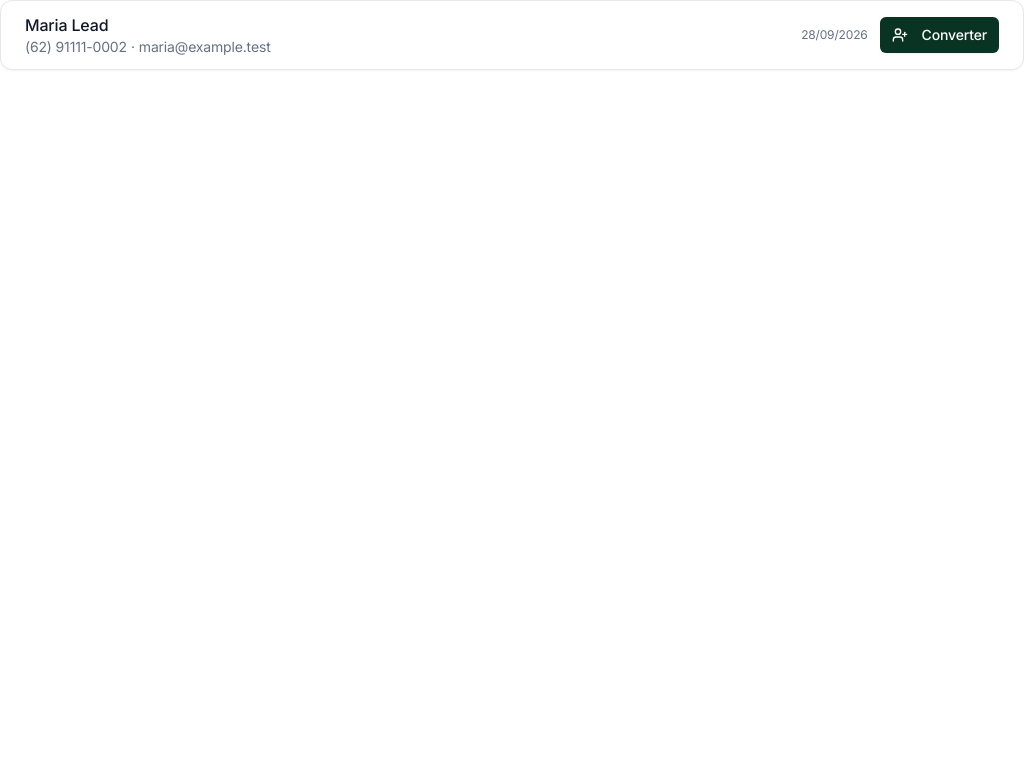
it: telefone que já é de um cliente: só vincular, sem converter nem "criar mesmo assim"
Later steps or results of the test are not shown.
Click the button "Converter" at (939, 35), box top-left (880, 17), bottom-right (999, 53)
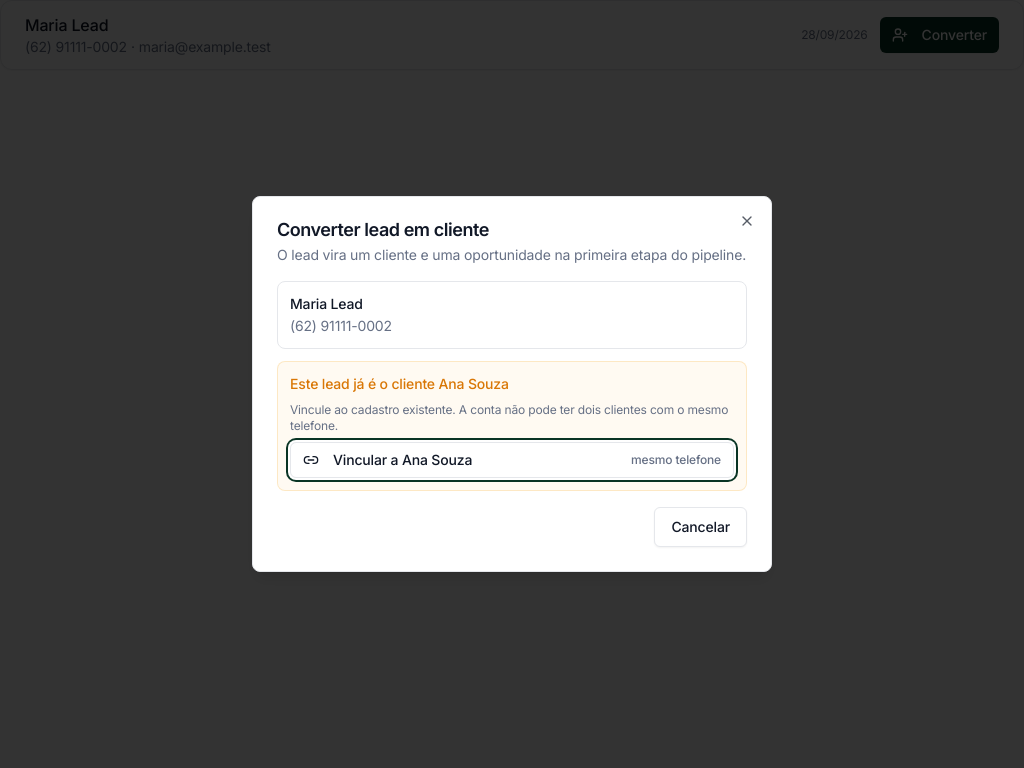
Expected: the text "Este lead já é o cliente Ana Souza" is shown, top-left (290, 375), bottom-right (509, 392)
